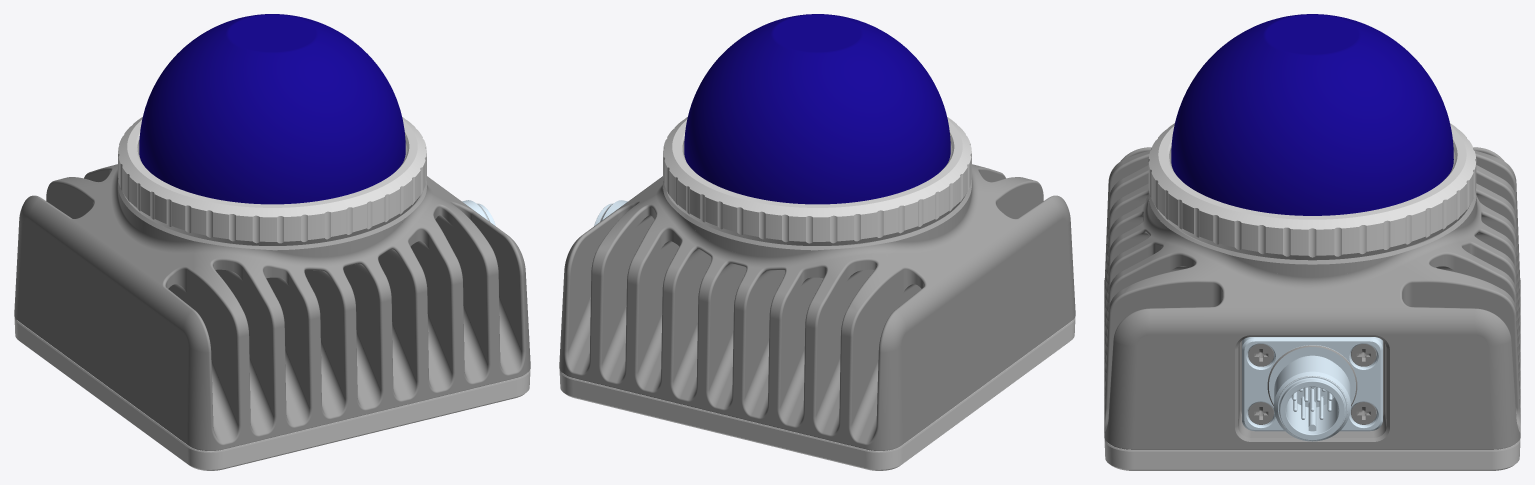
Rendered from mid-360.obj.
3 renders of one model, left to right at view 1: azimuth 30°, elevation 25°; view 2: azimuth 150°, elevation 25°; view 3: azimuth 270°, elevation 25°, orthographic. The views are drawn at different scales.
Visible parts, largest first — view 1: Body14, Body1, Body1:1, Body15; view 2: Body14, Body1, Body1:1, Body15; view 3: Body14, Body1, Body1:2, Body1:1, Body13, Body12, Body10, Body11.
Part boxes in pixels (left/top/right/bottom): Body14: left=14, top=164, right=530, bottom=450; Body1: left=118, top=14, right=426, bottom=245; Body1:1: left=14, top=317, right=530, bottom=470; Body15: left=118, top=188, right=193, bottom=241; Body14: left=559, top=164, right=1075, bottom=450; Body1: left=663, top=14, right=971, bottom=245; Body1:1: left=559, top=250, right=1075, bottom=470; Body15: left=896, top=188, right=971, bottom=241; Body14: left=1104, top=147, right=1520, bottom=449; Body1: left=1148, top=14, right=1476, bottom=260; Body1:2: left=1242, top=337, right=1382, bottom=441; Body1:1: left=1104, top=439, right=1520, bottom=470; Body13: left=1351, top=402, right=1376, bottom=424; Body12: left=1248, top=402, right=1273, bottom=424; Body10: left=1248, top=344, right=1273, bottom=366; Body11: left=1351, top=344, right=1376, bottom=366.
Size of the model in its own units: 0.0727 by 0.0601 by 0.0649.
